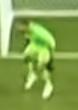goalkeeper: (13, 8, 61, 104)
